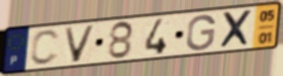4: (143, 17, 170, 56)
8: (106, 20, 136, 62)
C: (28, 28, 62, 67)
G: (184, 13, 218, 52)
V: (62, 24, 98, 65)
X: (218, 8, 254, 50)
